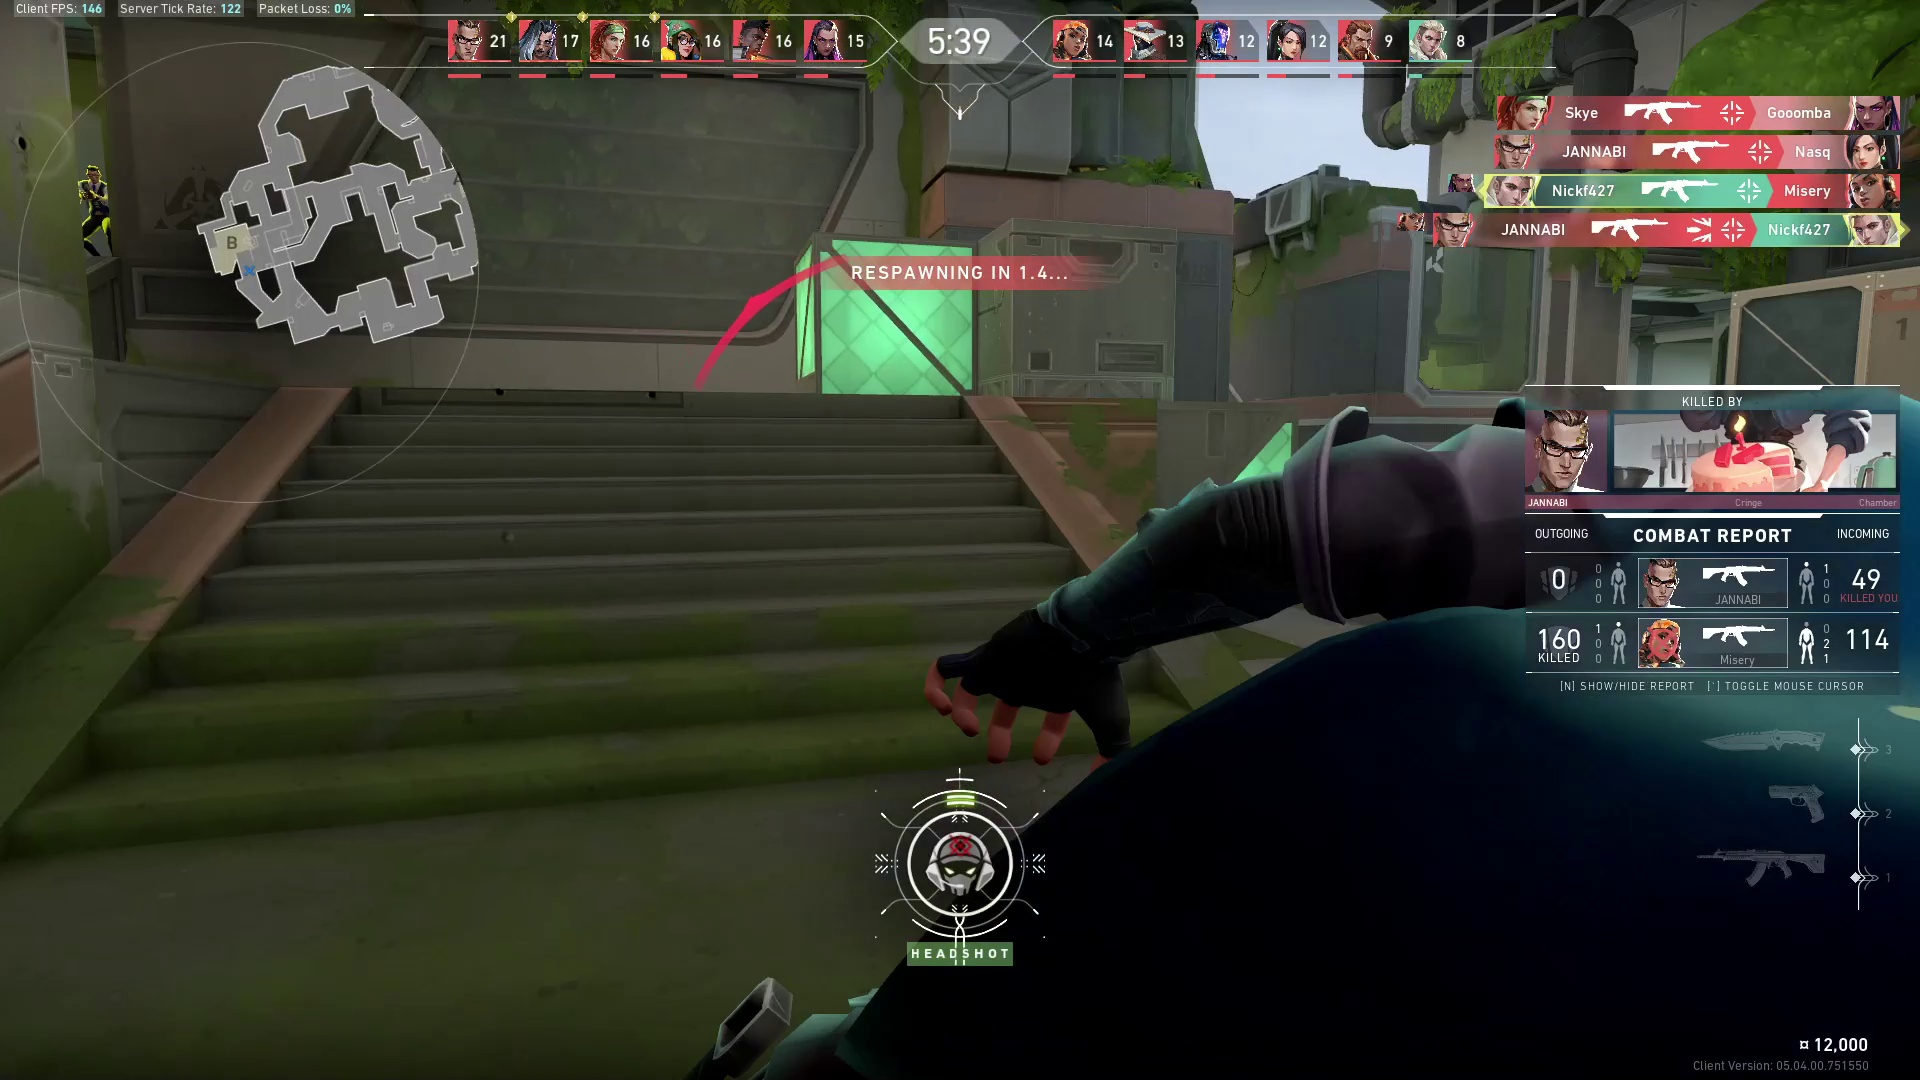enemy_body: (75, 180, 114, 258)
enemy_head: (83, 163, 103, 184)
